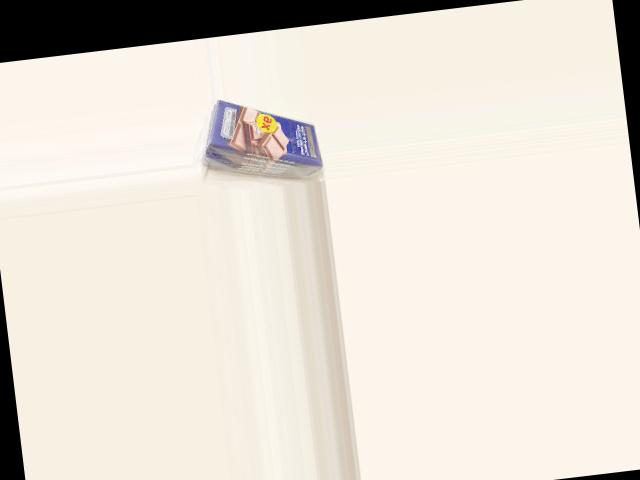chocolate: (202, 87, 324, 187)
